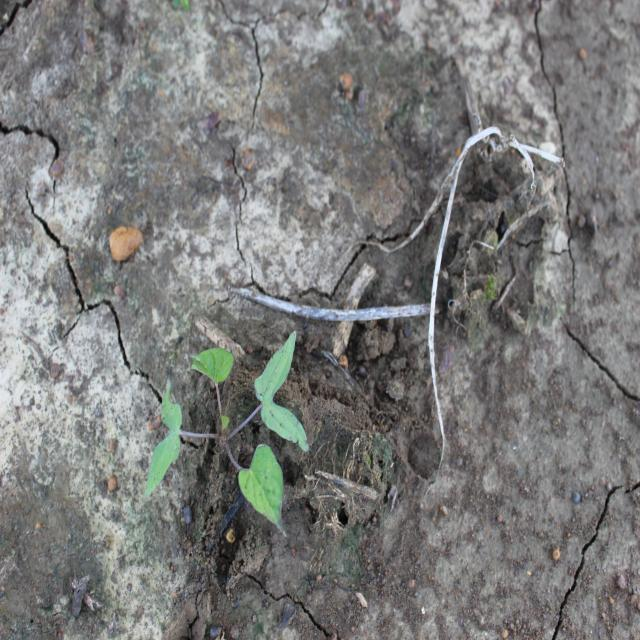MorningGlory: (140, 326, 312, 540)
